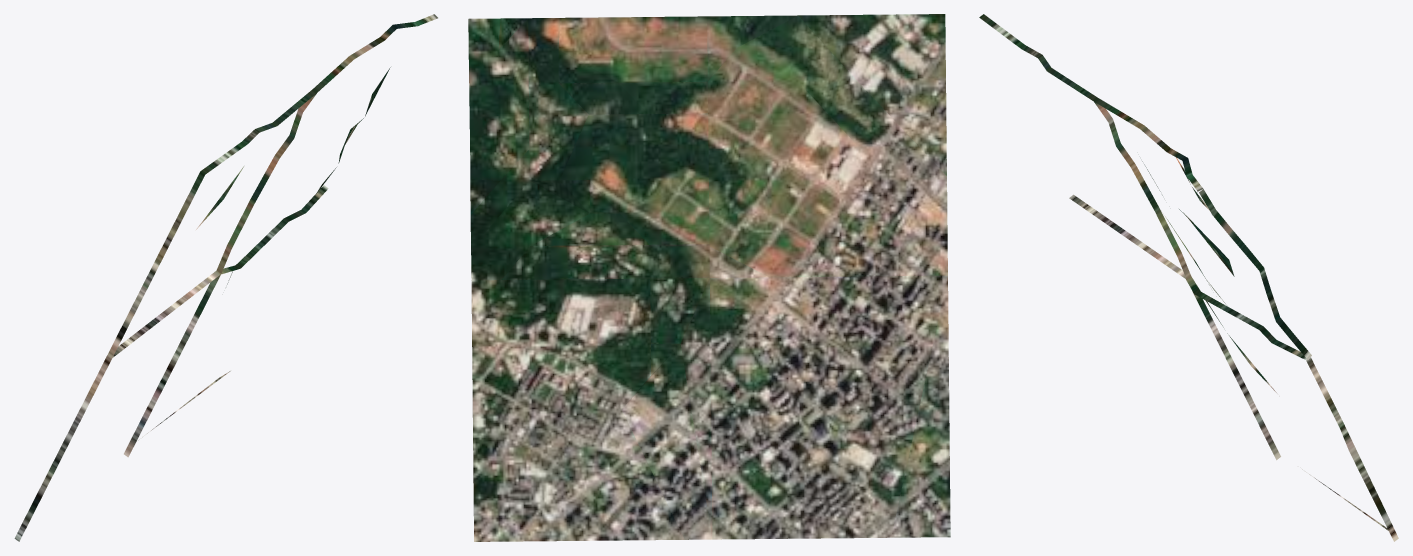
3 renders of one model, left to right at view 1: azimuth 30°, elevation 25°; view 2: azimuth 150°, elevation 25°; view 3: azimuth 270°, elevation 25°, orthographic. The views are drawn at different scales.
Bounding box in the file's own units: 2493 × 2219 × 2059.
Materials: 1 (1 with a texture image).
